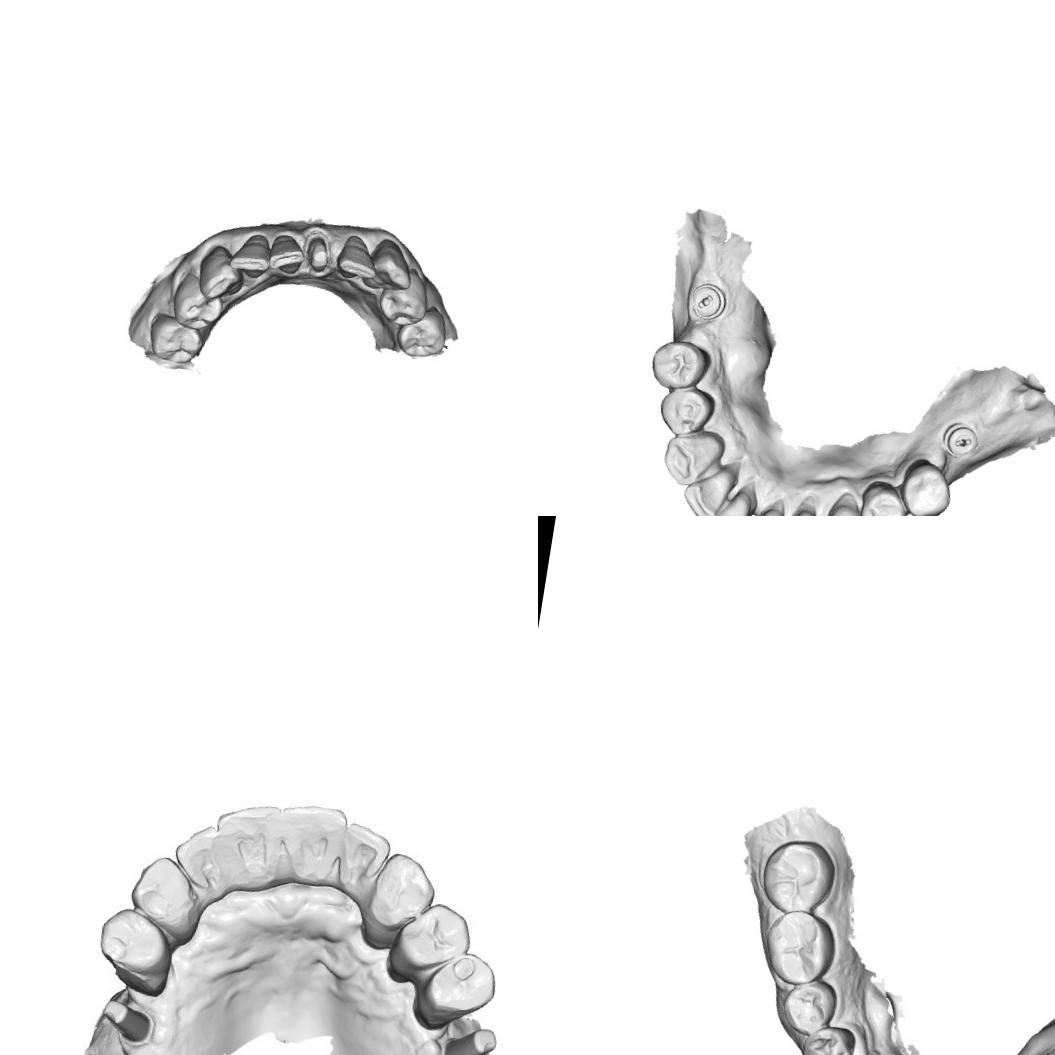abutment: (92, 991, 160, 1050), (437, 1018, 503, 1055)
canine: (364, 852, 440, 938), (129, 853, 207, 933), (657, 423, 729, 493), (361, 233, 418, 296), (192, 242, 248, 306), (815, 498, 882, 516)
crown: (299, 230, 341, 280)
implant_minus: (685, 277, 731, 325), (940, 416, 984, 462)
incisor: (273, 800, 348, 888), (215, 792, 286, 858), (335, 822, 393, 900), (161, 814, 222, 881), (677, 461, 741, 516), (332, 232, 383, 287), (228, 229, 276, 282), (265, 230, 312, 280), (702, 482, 755, 516), (732, 500, 788, 516)
molar: (754, 832, 841, 920), (760, 904, 841, 992)
premolar: (90, 904, 179, 982), (390, 898, 472, 974), (421, 949, 499, 1020), (776, 976, 841, 1044), (646, 334, 714, 397), (145, 308, 210, 370), (654, 381, 720, 442), (390, 302, 452, 365), (893, 455, 956, 516), (168, 272, 227, 334), (376, 270, 430, 332), (795, 1018, 861, 1055), (854, 476, 914, 516)
